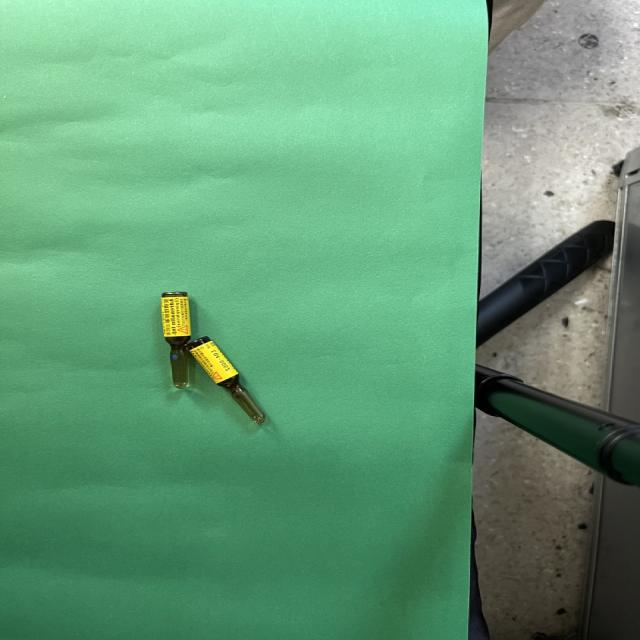Ampoules: (161, 292, 265, 424), (161, 292, 191, 388)
